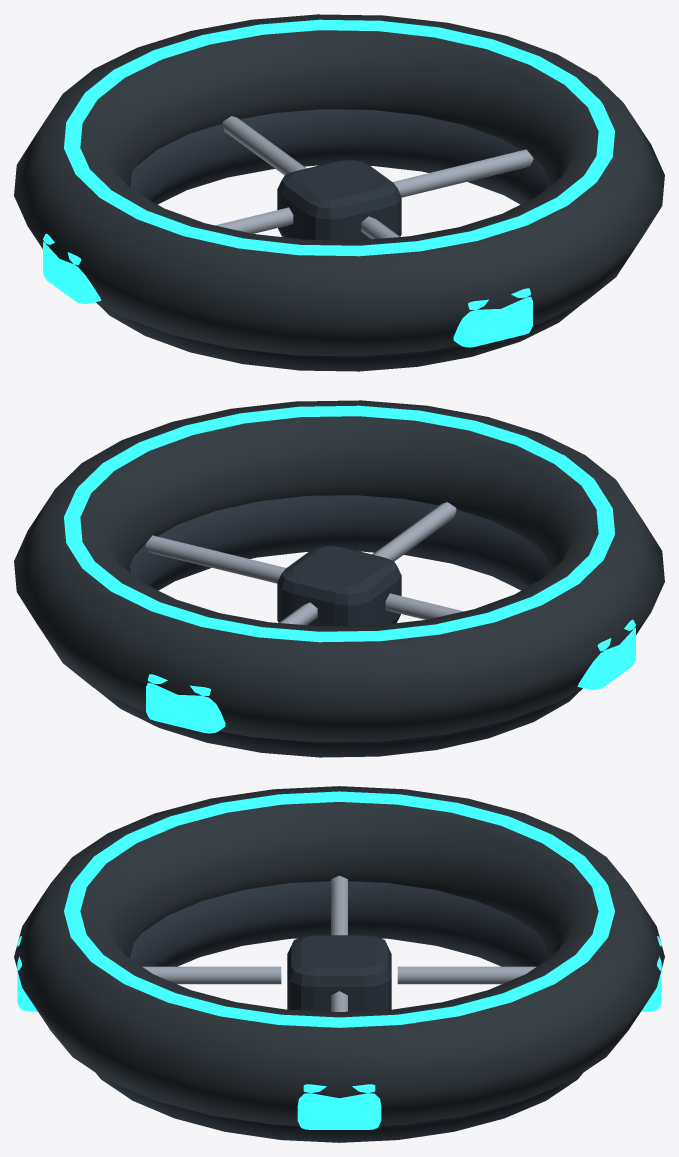
File: skyline_x7_motor.gltf
3 renders of one model, top to bottom at view 1: azimuth 30°, elevation 25°; view 2: azimuth 150°, elevation 25°; view 3: azimuth 270°, elevation 25°, orthographic.
Parts seen in each view (by area): view 1: skyline_x7_motor; view 2: skyline_x7_motor; view 3: skyline_x7_motor.
Boxes of the visible parts, left/top/right/bottom form: skyline_x7_motor: left=14, top=14, right=664, bottom=371; skyline_x7_motor: left=14, top=400, right=664, bottom=757; skyline_x7_motor: left=14, top=786, right=664, bottom=1142.
Size of the model in its own units: 1.12 by 0.2362 by 1.12.
